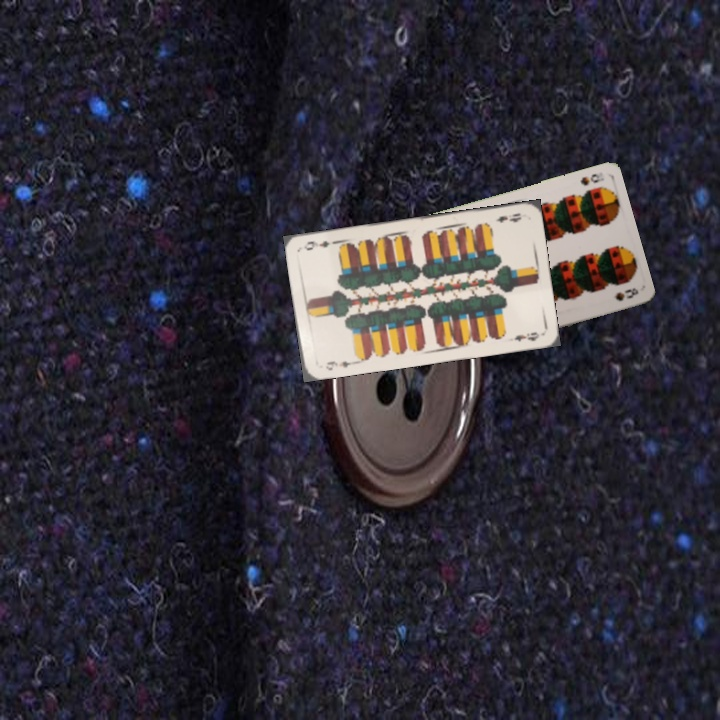E9: (322, 357, 357, 373), (492, 209, 524, 225)
S8: (576, 168, 607, 188)
